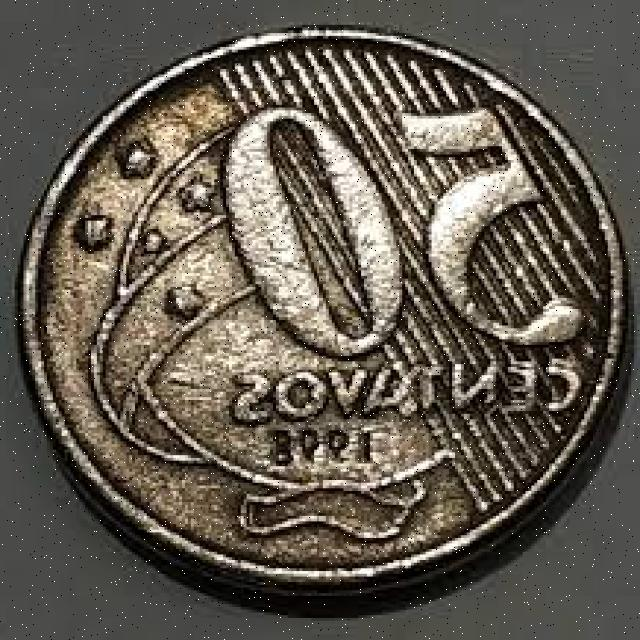50 cent: (18, 18, 630, 608)
